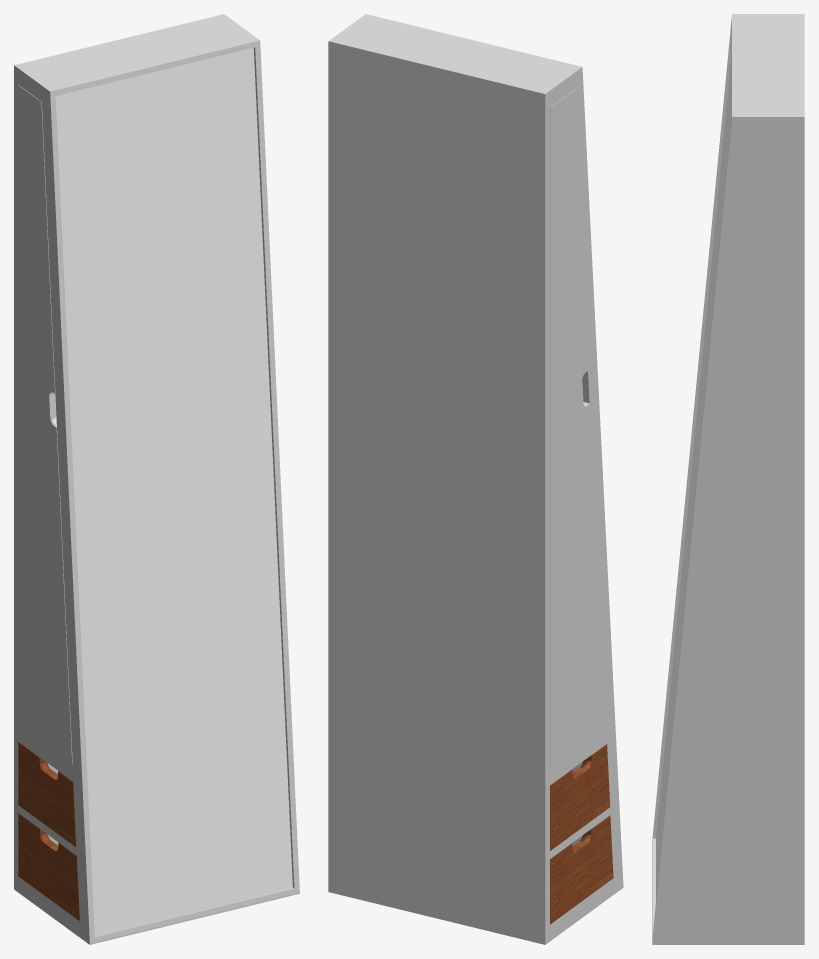
Rendered from naura.glb.
The picture shows the model from 3 angles, left to right: view 1: azimuth 30°, elevation 25°; view 2: azimuth 150°, elevation 25°; view 3: azimuth 270°, elevation 25°; orthographic projection. The views are drawn at different scales.
Visible parts, largest first — view 1: G-__556374, G-__556770, G-__556383, G-OuterShell.001, G-__555690, G-__555672; view 2: G-OuterShell.001, G-__556770, G-__556383, G-__555690, G-__555672; view 3: G-OuterShell.001, G-__556383, G-__556374.
Boxes of the visible parts, x1,y1,x2,y2 form: G-__556374: (55, 48, 292, 935); G-__556770: (18, 85, 72, 764); G-__556383: (41, 34, 299, 944); G-OuterShell.001: (14, 14, 250, 937); G-__555690: (18, 813, 79, 920); G-__555672: (18, 742, 76, 847); G-OuterShell.001: (328, 21, 613, 944); G-__556770: (550, 90, 606, 768); G-__556383: (356, 14, 623, 894); G-__555690: (550, 815, 613, 924); G-__555672: (550, 744, 610, 850); G-OuterShell.001: (670, 14, 804, 944); G-__556383: (652, 14, 750, 944); G-__556374: (656, 55, 731, 901).
Bounding box in the file's own units: 0.4009 × 1.5 × 0.25.
7 materials, 2 textured.
